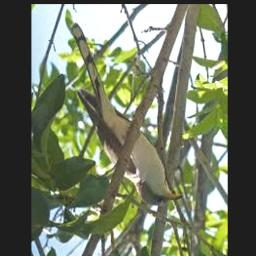Cuckoo: (70, 24, 183, 206)
